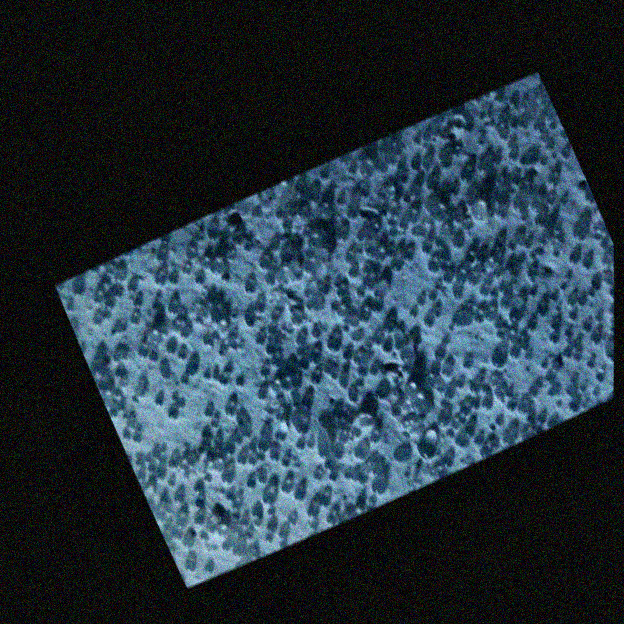GrassBeadSeg: (199, 145, 555, 541), (212, 120, 525, 499), (136, 214, 528, 482), (186, 250, 560, 528), (196, 254, 556, 527), (158, 210, 486, 504), (154, 164, 455, 480), (194, 275, 510, 574), (144, 204, 500, 462), (277, 184, 531, 540), (184, 309, 522, 573), (257, 95, 483, 483), (183, 274, 612, 478), (221, 213, 463, 551), (187, 212, 419, 562), (173, 305, 576, 504), (252, 298, 596, 527), (93, 295, 409, 544), (259, 253, 579, 498), (225, 203, 487, 501), (136, 177, 560, 358), (162, 284, 439, 556), (176, 289, 537, 494), (166, 340, 558, 524), (176, 170, 475, 410), (278, 241, 613, 455), (131, 285, 575, 445), (203, 194, 504, 426), (322, 230, 610, 471), (261, 287, 577, 505), (72, 207, 508, 354), (329, 142, 553, 420), (236, 187, 458, 464), (98, 206, 330, 464), (194, 312, 476, 524), (208, 322, 496, 525), (145, 227, 587, 358), (252, 348, 573, 524), (138, 175, 559, 308), (110, 208, 516, 343), (113, 273, 318, 530), (317, 169, 468, 507), (133, 298, 387, 494), (226, 254, 476, 452), (274, 353, 581, 513), (222, 366, 491, 548), (328, 218, 599, 398), (257, 210, 446, 461), (183, 262, 348, 549), (318, 194, 576, 375), (154, 191, 457, 345), (164, 256, 328, 533), (247, 230, 451, 452), (315, 220, 524, 436), (182, 273, 495, 416), (95, 288, 426, 421), (224, 330, 579, 454), (194, 387, 538, 508), (160, 234, 412, 398), (301, 192, 466, 424), (167, 360, 472, 485), (266, 164, 374, 516), (172, 352, 368, 540), (167, 254, 510, 361), (320, 207, 511, 398), (274, 165, 502, 322), (352, 169, 473, 460), (299, 306, 549, 444), (200, 261, 528, 366), (263, 192, 439, 386), (129, 315, 391, 445), (110, 289, 249, 533), (127, 305, 342, 461), (264, 366, 453, 543), (346, 268, 572, 415), (93, 311, 338, 446), (134, 243, 280, 467), (224, 261, 440, 411), (202, 271, 466, 380), (281, 186, 421, 390), (300, 288, 535, 409), (89, 265, 244, 446), (156, 252, 309, 434), (231, 286, 329, 557), (122, 259, 267, 441), (274, 229, 398, 441), (113, 369, 475, 438), (404, 216, 546, 390), (336, 209, 441, 444), (130, 321, 378, 419), (192, 359, 334, 521), (306, 192, 612, 267), (324, 237, 506, 360), (219, 331, 363, 485), (103, 289, 365, 373), (224, 316, 436, 417), (257, 230, 348, 450), (123, 325, 362, 408), (355, 321, 462, 506), (381, 309, 496, 479), (235, 312, 483, 388), (148, 352, 361, 440), (245, 330, 362, 490), (208, 261, 276, 532), (259, 241, 611, 292), (154, 274, 518, 323), (285, 302, 378, 493), (348, 227, 450, 400), (199, 262, 266, 509), (148, 333, 240, 511), (295, 349, 446, 450), (172, 315, 239, 536), (218, 419, 325, 551), (381, 320, 484, 447), (378, 347, 575, 413), (203, 229, 309, 348), (125, 421, 322, 481), (210, 292, 296, 428), (408, 186, 560, 259), (306, 387, 387, 519), (206, 189, 399, 240), (168, 441, 256, 552), (338, 155, 432, 254), (308, 407, 400, 507), (380, 309, 449, 427), (292, 338, 341, 502), (247, 373, 321, 481), (114, 388, 210, 469), (534, 191, 612, 290), (247, 363, 348, 439), (57, 285, 134, 374), (325, 367, 367, 526), (244, 209, 263, 541), (159, 325, 244, 398), (235, 186, 314, 264), (185, 242, 504, 261), (546, 319, 612, 409), (297, 363, 455, 400), (506, 359, 594, 424), (357, 235, 424, 317), (207, 261, 520, 278), (181, 233, 234, 333), (451, 313, 496, 430), (373, 251, 452, 316), (335, 155, 406, 222), (243, 283, 383, 313), (348, 428, 453, 468), (154, 460, 219, 523), (355, 432, 411, 503), (270, 287, 386, 321), (392, 374, 434, 458), (529, 193, 593, 246), (307, 350, 506, 367), (393, 430, 468, 475), (490, 320, 536, 393), (477, 160, 539, 213), (346, 156, 437, 192), (512, 269, 537, 396), (384, 113, 443, 166), (507, 114, 568, 165), (275, 366, 330, 422), (376, 147, 458, 183), (441, 150, 511, 191), (268, 284, 321, 335), (396, 369, 442, 426), (244, 318, 266, 437), (230, 224, 300, 261), (242, 199, 292, 250), (293, 280, 349, 325), (317, 415, 356, 479), (273, 344, 411, 362), (217, 344, 275, 386), (182, 297, 237, 340), (363, 204, 433, 236), (493, 254, 522, 330), (296, 198, 342, 245), (564, 307, 613, 351), (476, 161, 527, 203), (112, 354, 196, 379), (155, 341, 187, 406), (422, 116, 483, 150), (165, 301, 220, 338), (360, 274, 468, 292), (549, 284, 599, 322), (494, 92, 541, 129), (271, 346, 310, 390), (119, 324, 166, 360), (155, 444, 220, 470), (497, 102, 550, 132), (481, 398, 514, 446), (102, 382, 146, 418), (58, 262, 112, 291), (477, 133, 524, 165), (581, 317, 613, 361), (274, 316, 306, 357), (392, 371, 414, 429), (349, 268, 370, 327), (100, 276, 160, 295), (198, 425, 233, 457), (151, 295, 182, 331), (420, 180, 438, 241), (437, 380, 462, 423), (147, 459, 210, 476), (506, 235, 549, 259), (479, 369, 505, 402), (392, 440, 430, 462), (293, 313, 326, 338), (198, 449, 223, 481), (458, 435, 490, 458), (468, 381, 493, 410), (361, 246, 382, 274), (293, 272, 313, 299), (402, 242, 430, 261), (276, 271, 302, 291), (325, 315, 356, 331), (389, 250, 411, 272), (489, 291, 511, 311), (489, 434, 510, 453), (449, 421, 461, 447), (344, 467, 370, 479), (91, 362, 104, 386), (98, 387, 100, 389)
